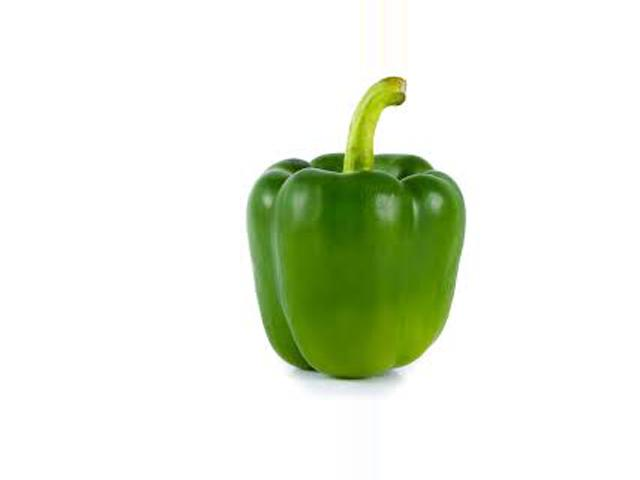bell_pepper: (211, 83, 468, 378)
